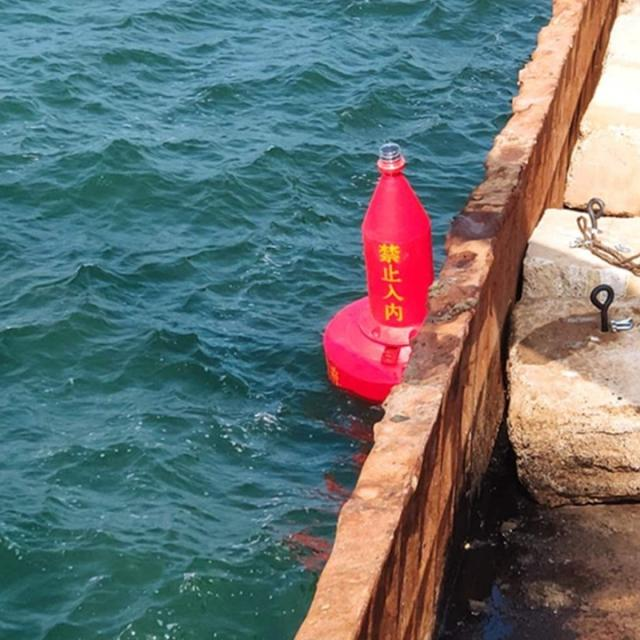buoy: (320, 130, 448, 402)
